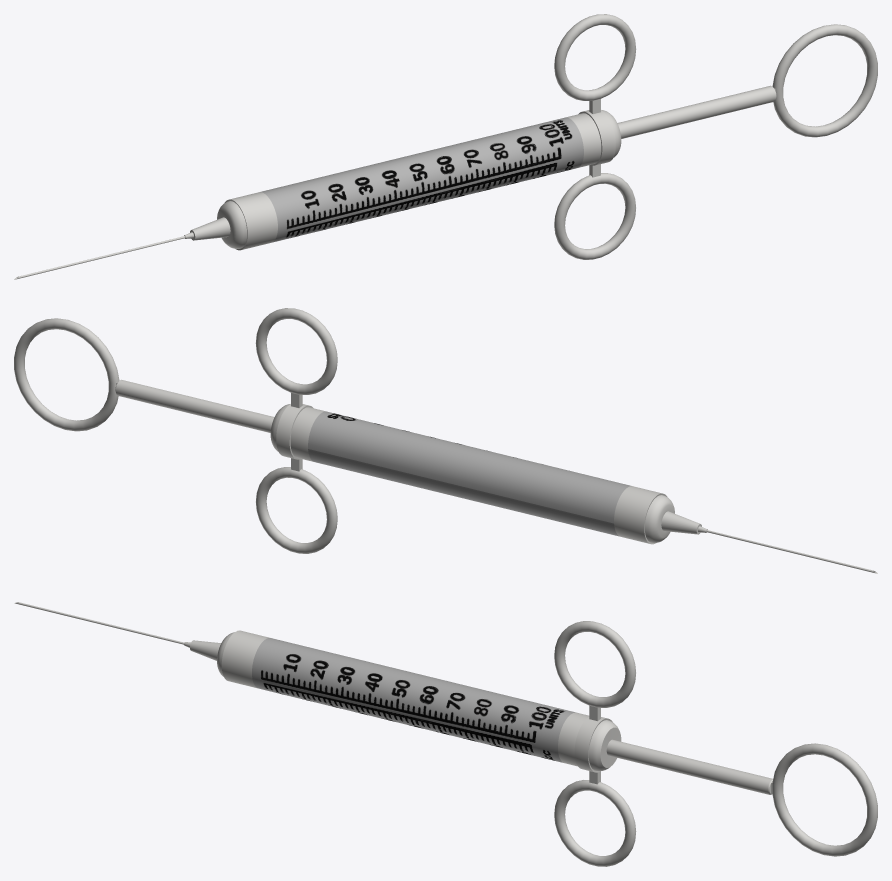
Rendered from Syringe.glb.
3 views of the same model, one above another, from view 1: azimuth 30°, elevation 25°; view 2: azimuth 150°, elevation 25°; view 3: azimuth 330°, elevation 25° (orthographic).
Parts seen in each view (by area): view 1: Syringe_With_Blood_SM; view 2: Syringe_With_Blood_SM; view 3: Syringe_With_Blood_SM.
Boxes of the visible parts, box(x1,y1,x2,y2) form: Syringe_With_Blood_SM: box(14, 14, 877, 279); Syringe_With_Blood_SM: box(14, 308, 877, 573); Syringe_With_Blood_SM: box(14, 602, 877, 866).
Bounding box in the file's own units: 0.2623 × 0.0705 × 0.0145.
3 materials, 3 textured.
